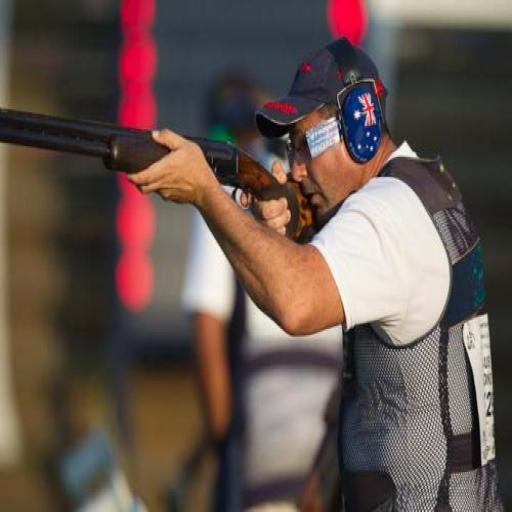shooting: (125, 36, 508, 510)
